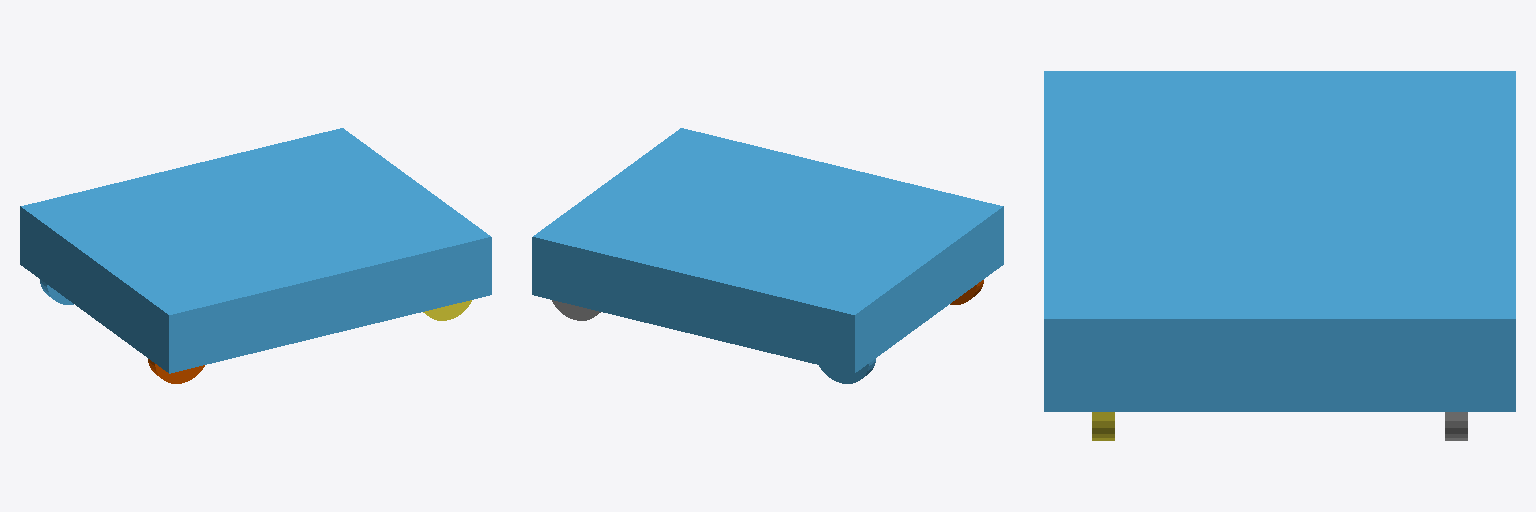
URDF robot description (amr_8dof_chassis):
<?xml version="1.0"?>
<robot name="amr_8dof_chassis">
  <!-- +X forward, +Y left, +Z up; base_link is at wheel-axle height. -->
  <link name="base_footprint"/>
  <joint name="base_footprint_joint" type="fixed">
    <parent link="base_footprint"/><child link="base_link"/>
    <origin xyz="0 0 0.065" rpy="0 0 0"/>
  </joint>
  <link name="base_link">
    <visual><origin xyz="0 0 0.065" rpy="0 0 0"/><geometry><box size="0.750 0.600 0.130"/></geometry></visual>
    <collision><origin xyz="0 0 0.065" rpy="0 0 0"/><geometry><box size="0.750 0.600 0.130"/></geometry></collision>
  </link>

  <!-- front_right: steering-axis position in base_link; drive offset a = 0. -->
  <link name="front_right_steering_link"/>
  <joint name="j1" type="continuous">
    <parent link="base_link"/><child link="front_right_steering_link"/>
    <origin xyz="0.310 -0.225 0.000" rpy="0 0 0"/><axis xyz="0 0 1"/>
  </joint>
  <link name="front_right_wheel_link">
    <visual><origin xyz="0 0 0" rpy="1.5707963267948966 0 0"/><geometry><cylinder radius="0.065" length="0.030"/></geometry></visual>
    <collision><origin xyz="0 0 0" rpy="1.5707963267948966 0 0"/><geometry><cylinder radius="0.065" length="0.030"/></geometry></collision>
  </link>
  <joint name="j2" type="continuous">
    <parent link="front_right_steering_link"/><child link="front_right_wheel_link"/>
    <origin xyz="0 0 0" rpy="0 0 0"/><axis xyz="0 1 0"/>
  </joint>

  <!-- rear_right: steering-axis position in base_link; drive offset a = 0. -->
  <link name="rear_right_steering_link"/>
  <joint name="j3" type="continuous">
    <parent link="base_link"/><child link="rear_right_steering_link"/>
    <origin xyz="-0.305 -0.2175 0.000" rpy="0 0 0"/><axis xyz="0 0 1"/>
  </joint>
  <link name="rear_right_wheel_link">
    <visual><origin xyz="0 0 0" rpy="1.5707963267948966 0 0"/><geometry><cylinder radius="0.065" length="0.030"/></geometry></visual>
    <collision><origin xyz="0 0 0" rpy="1.5707963267948966 0 0"/><geometry><cylinder radius="0.065" length="0.030"/></geometry></collision>
  </link>
  <joint name="j4" type="continuous">
    <parent link="rear_right_steering_link"/><child link="rear_right_wheel_link"/>
    <origin xyz="0 0 0" rpy="0 0 0"/><axis xyz="0 1 0"/>
  </joint>

  <!-- front_left: steering-axis position in base_link; drive offset a = 0. -->
  <link name="front_left_steering_link"/>
  <joint name="j5" type="continuous">
    <parent link="base_link"/><child link="front_left_steering_link"/>
    <origin xyz="0.310 0.225 0.000" rpy="0 0 0"/><axis xyz="0 0 1"/>
  </joint>
  <link name="front_left_wheel_link">
    <visual><origin xyz="0 0 0" rpy="1.5707963267948966 0 0"/><geometry><cylinder radius="0.065" length="0.030"/></geometry></visual>
    <collision><origin xyz="0 0 0" rpy="1.5707963267948966 0 0"/><geometry><cylinder radius="0.065" length="0.030"/></geometry></collision>
  </link>
  <joint name="j6" type="continuous">
    <parent link="front_left_steering_link"/><child link="front_left_wheel_link"/>
    <origin xyz="0 0 0" rpy="0 0 0"/><axis xyz="0 1 0"/>
  </joint>

  <!-- rear_left: steering-axis position in base_link; drive offset a = 0. -->
  <link name="rear_left_steering_link"/>
  <joint name="j7" type="continuous">
    <parent link="base_link"/><child link="rear_left_steering_link"/>
    <origin xyz="-0.305 0.2175 0.000" rpy="0 0 0"/><axis xyz="0 0 1"/>
  </joint>
  <link name="rear_left_wheel_link">
    <visual><origin xyz="0 0 0" rpy="1.5707963267948966 0 0"/><geometry><cylinder radius="0.065" length="0.030"/></geometry></visual>
    <collision><origin xyz="0 0 0" rpy="1.5707963267948966 0 0"/><geometry><cylinder radius="0.065" length="0.030"/></geometry></collision>
  </link>
  <joint name="j8" type="continuous">
    <parent link="rear_left_steering_link"/><child link="rear_left_wheel_link"/>
    <origin xyz="0 0 0" rpy="0 0 0"/><axis xyz="0 1 0"/>
  </joint>

  <!-- Sensors: user-specified lidar extrinsics in the runtime base_link frame, 2026-10-19. -->
  <link name="imu_link"/>
  <joint name="imu_joint" type="fixed">
    <parent link="base_link"/><child link="imu_link"/>
    <origin xyz="0.085 0.000 0.250" rpy="0 0 0"/>
  </joint>
  <!-- User-specified front lidar pose relative to base_link -->
  <link name="front_laser_link"/>
  <joint name="front_laser_joint" type="fixed">
    <parent link="base_link"/><child link="front_laser_link"/>
    <origin xyz="0.239 0.175 0.1455" rpy="0 0 0.7853981633974483"/>
  </joint>
  <!-- User-specified back lidar pose relative to base_link -->
  <link name="back_laser_link"/>
  <joint name="back_laser_joint" type="fixed">
    <parent link="base_link"/><child link="back_laser_link"/>
    <origin xyz="-0.239 -0.175 0.1455" rpy="0 0 -2.356194490192345"/>
  </joint>
</robot>

--- Facts derived from the render (not from the file) ---
3 views of the same robot in one strip: view 1: azimuth 30°, elevation 25°; view 2: azimuth 150°, elevation 25°; view 3: azimuth 270°, elevation 25° (orthographic).
Robot: amr_8dof_chassis — 13 links, 12 joints (8 continuous, 4 fixed); root link base_footprint; default pose: every joint at zero.
Visible links, largest first — view 1: base_link, rear_right_wheel_link; view 2: base_link, rear_left_wheel_link; view 3: base_link, front_right_wheel_link, front_left_wheel_link.
Boxes of the visible links, left/top/right/bottom form: base_link: left=20, top=128, right=491, bottom=373; rear_right_wheel_link: left=148, top=359, right=204, bottom=383; base_link: left=532, top=128, right=1003, bottom=373; rear_left_wheel_link: left=819, top=359, right=875, bottom=383; base_link: left=1044, top=71, right=1515, bottom=411; front_right_wheel_link: left=1092, top=412, right=1114, bottom=440; front_left_wheel_link: left=1445, top=412, right=1467, bottom=440.
Size in the robot's own frame: 0.75 by 0.6 by 0.195 metres.
Geometry: primitives only (box / cylinder / sphere), no mesh files.
